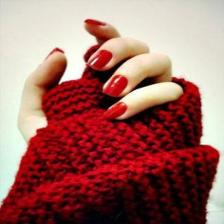red: (1, 67, 219, 224), (103, 75, 128, 97), (89, 50, 113, 70), (103, 102, 128, 120), (84, 45, 101, 62), (47, 47, 65, 60), (84, 19, 105, 25)
